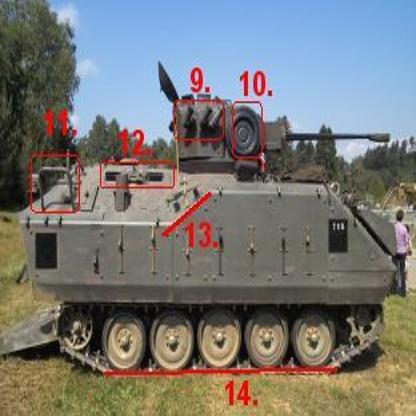Tank: (21, 82, 416, 374)
